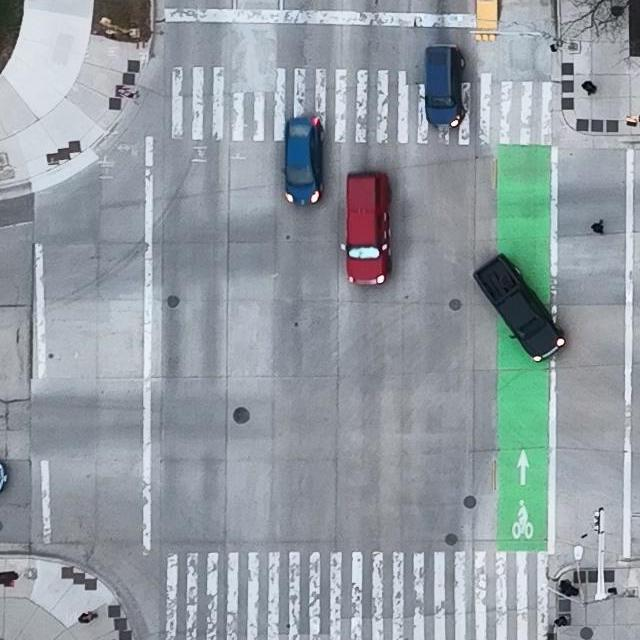car: (473, 253, 568, 362), (341, 172, 393, 286), (280, 116, 325, 207), (422, 45, 467, 128)
